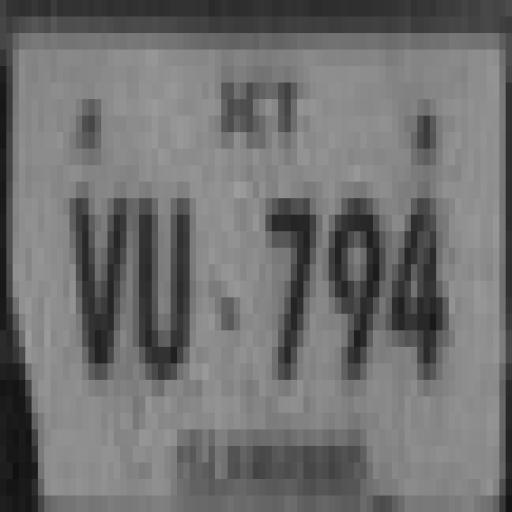4: (388, 174, 456, 396)
7: (254, 189, 319, 391)
9: (323, 172, 384, 377)
U: (127, 180, 192, 394)
V: (72, 177, 127, 367)
